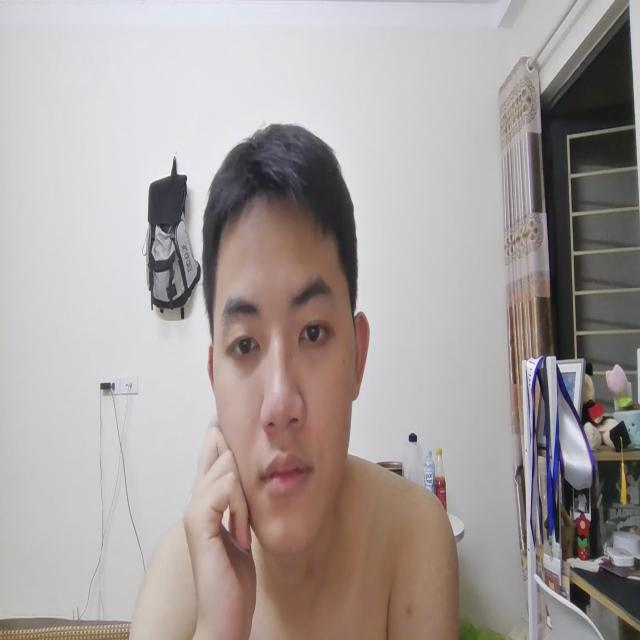student: (184, 92, 389, 640)
